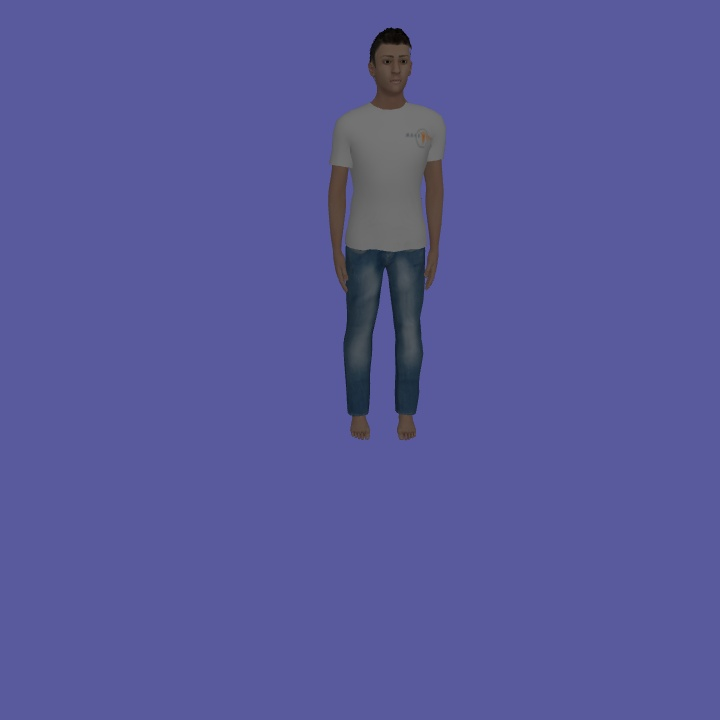victim: (320, 23, 450, 441)
